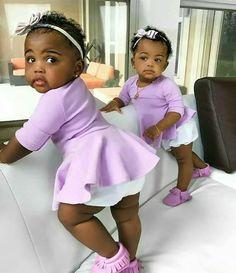Healthy: (22, 31, 72, 94), (133, 42, 167, 85)
